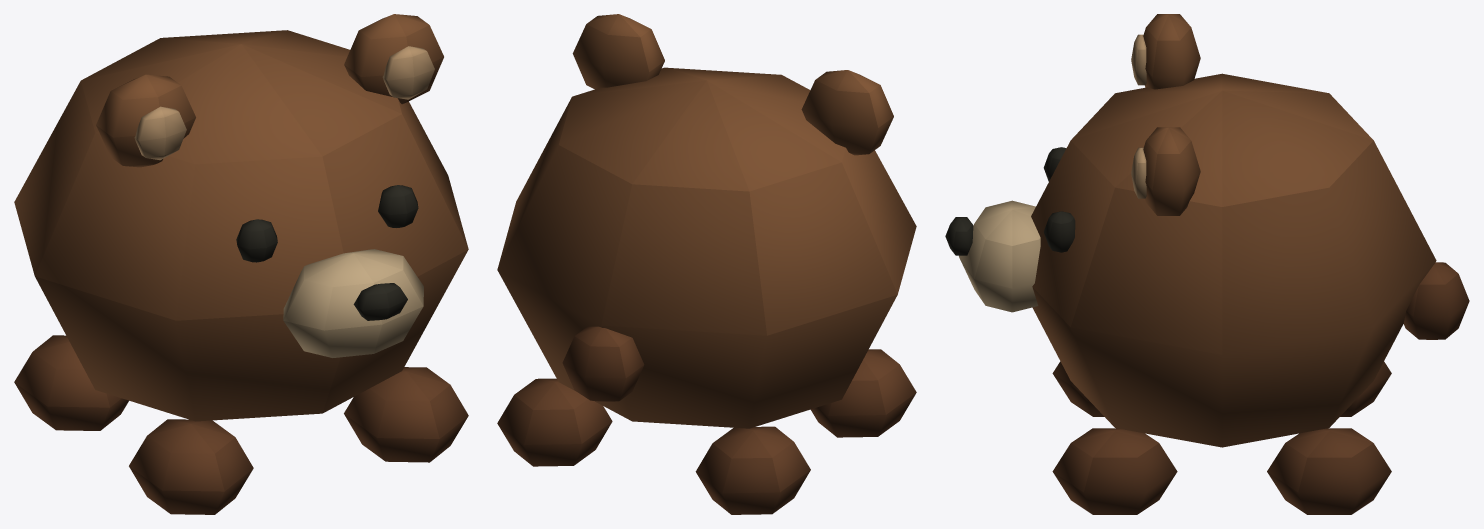
Rendered from Bear.glb.
The picture shows the model from 3 angles, left to right: view 1: azimuth 30°, elevation 25°; view 2: azimuth 150°, elevation 25°; view 3: azimuth 270°, elevation 25°; orthographic projection. The views are drawn at different scales.
Parts seen in each view (by area): view 1: Bear; view 2: Bear; view 3: Bear.
Part boxes in pixels (box(x1,y1,x2,y2)): Bear: box(14, 14, 468, 514); Bear: box(497, 14, 916, 514); Bear: box(945, 14, 1469, 514).
Bounding box in the file's own units: 0.5 × 0.484 × 0.587.
